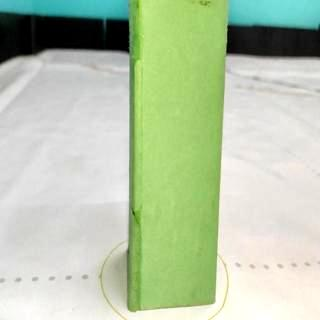greenbox: (126, 0, 228, 312)
